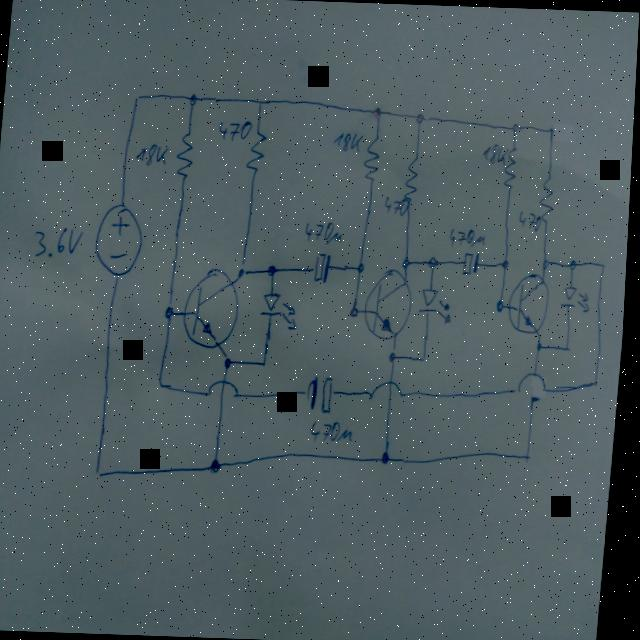capacitor: (312, 374, 338, 413), (315, 250, 333, 282), (463, 249, 481, 274)
crossover: (516, 370, 553, 396), (371, 378, 409, 400), (208, 376, 244, 398)
diode: (261, 290, 302, 330), (419, 286, 455, 322), (560, 284, 593, 312)
junction: (212, 456, 227, 473), (95, 462, 110, 478), (428, 254, 441, 268), (495, 299, 508, 313), (187, 91, 198, 106), (165, 304, 176, 319), (268, 262, 279, 276), (402, 255, 413, 269), (384, 449, 395, 463), (224, 355, 235, 369), (414, 110, 424, 124), (390, 350, 401, 362), (351, 304, 361, 317), (373, 105, 383, 117), (357, 261, 367, 273), (526, 450, 536, 462), (238, 266, 247, 278), (503, 257, 512, 269), (543, 257, 552, 269), (570, 257, 579, 269), (262, 356, 271, 368), (132, 92, 141, 103), (422, 352, 431, 363), (538, 339, 546, 351), (256, 97, 265, 107), (594, 378, 603, 388), (511, 122, 519, 132), (548, 124, 556, 134), (600, 260, 608, 270), (565, 342, 573, 352), (159, 378, 167, 388)
resistor: (173, 128, 197, 180), (362, 132, 383, 184), (537, 173, 557, 224), (245, 128, 268, 172), (403, 154, 421, 200), (502, 144, 520, 190)
source: (93, 200, 148, 278)
text: (32, 223, 86, 259), (312, 418, 356, 442), (305, 219, 345, 244), (449, 225, 489, 247), (135, 141, 170, 166), (216, 119, 254, 142), (333, 130, 365, 152), (482, 141, 510, 166), (518, 208, 543, 232), (384, 193, 412, 214)
transistor: (180, 264, 244, 350), (361, 264, 417, 342), (507, 268, 554, 332)
